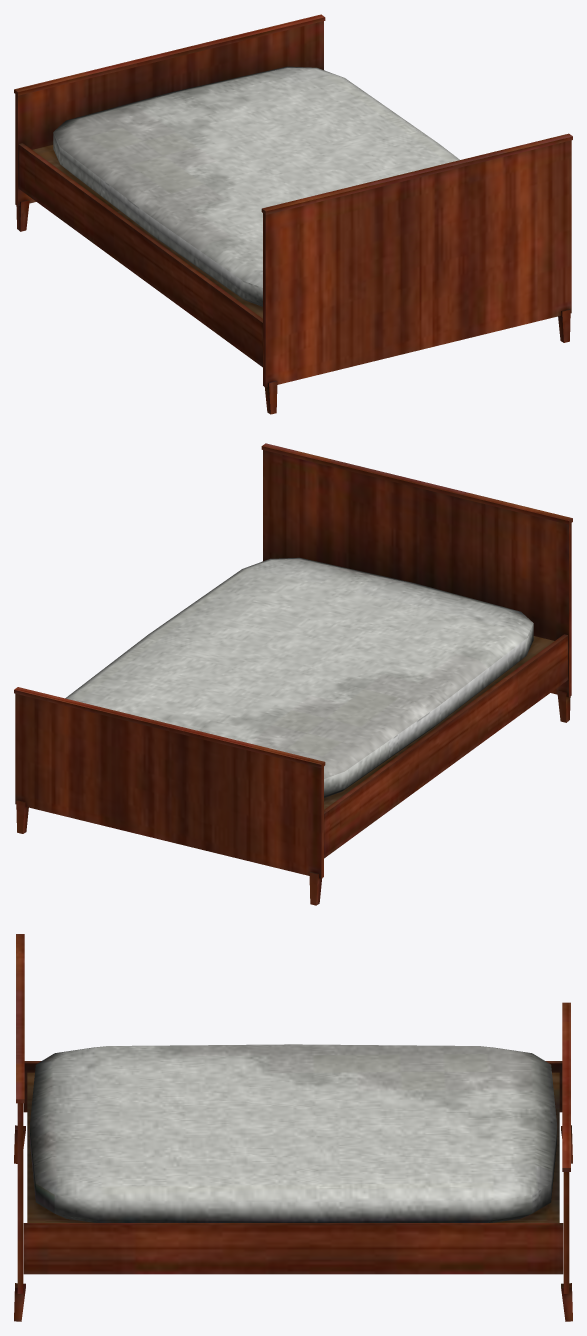
Rendered from bed_double_lod1_web.glb.
The picture shows the model from 3 angles, top to bottom: view 1: azimuth 30°, elevation 25°; view 2: azimuth 150°, elevation 25°; view 3: azimuth 270°, elevation 25°; orthographic projection. The views are drawn at different scales.
Parts seen in each view (by area): view 1: BedDouble_Mesh; view 2: BedDouble_Mesh; view 3: BedDouble_Mesh.
Boxes of the visible parts, x1,y1,x2,y2 form: BedDouble_Mesh: [14, 14, 572, 414]; BedDouble_Mesh: [14, 443, 572, 905]; BedDouble_Mesh: [14, 934, 572, 1321].
Size of the model in its own units: 1.45 by 0.917 by 2.07.
1 material, 1 textured.
